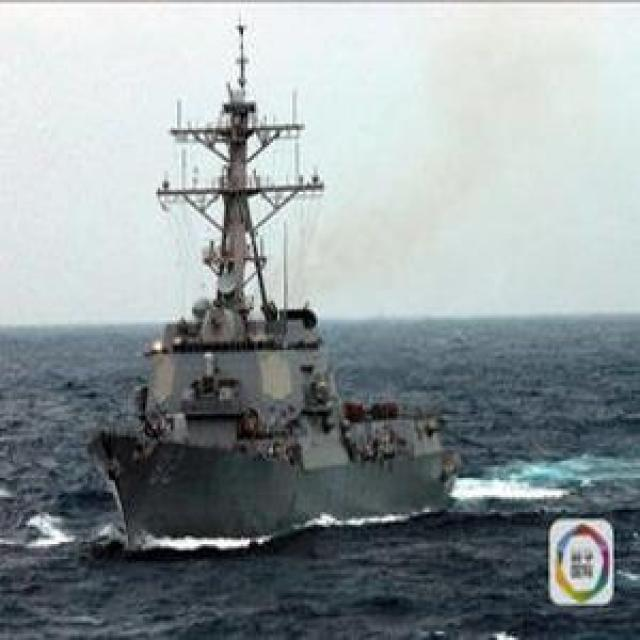navalvessels: (81, 0, 467, 547)
